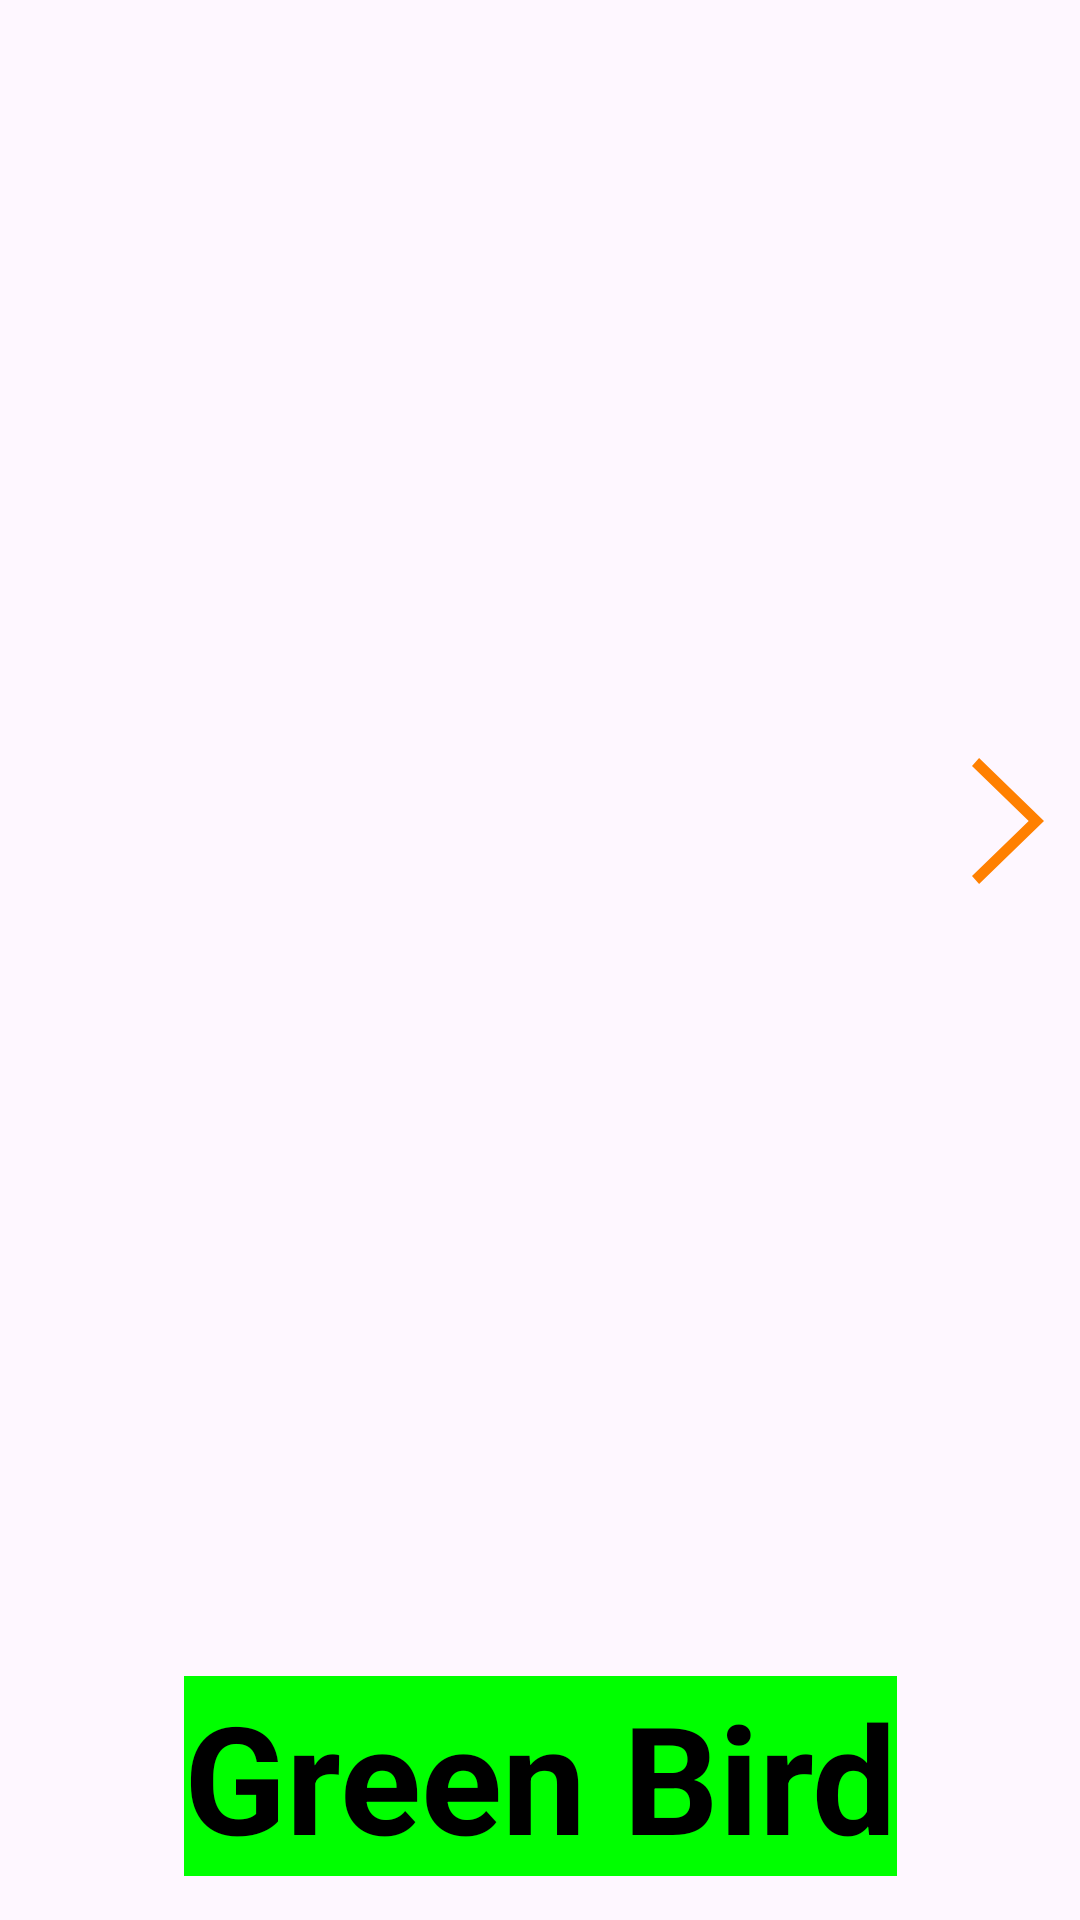

Icons on this 1080w x 1920h Android screen, each with the point to tap as (x,y):
right arrow: (1008,821)
